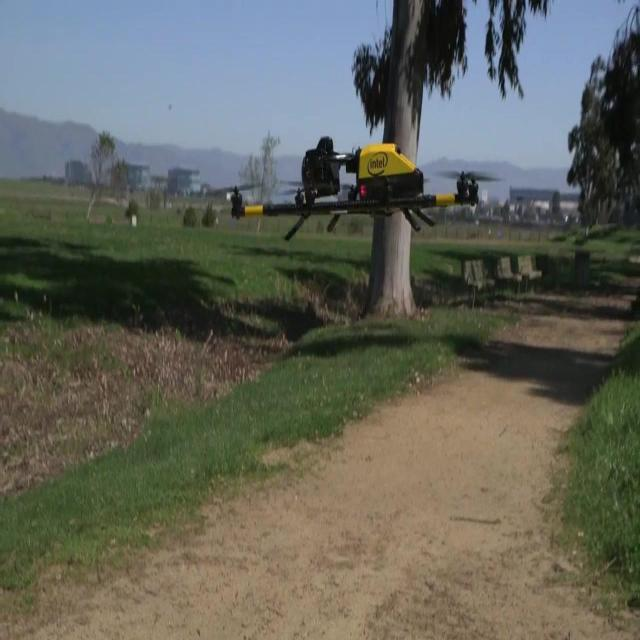drone: (227, 131, 511, 237)
